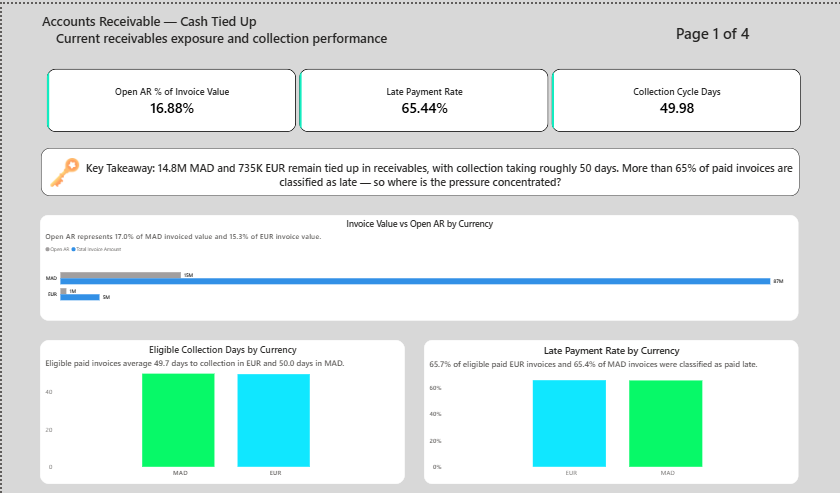

The page's visual inventory and layout, read from the dashboard file:
{"tool":"powerbi","page":{"name":"Page 1","canvas":[2100,1247],"ordinal":0},"visuals":[{"type":"textbox","box":[96,16,1024,96],"z":0},{"type":"textbox","box":[96,360,1896,120],"z":0,"group":"g1"},{"type":"textbox","box":[1632,24,288,120],"z":1000},{"type":"image","box":[24,384,264,72],"z":1000,"group":"g1"},{"type":"clusteredBarChart","title":"Invoice Value vs Open AR by Currency","fields":{"Category":["DimCurrency.Currency"],"Y":["Table.Open AR","Table.Total Invoice Amount"]},"box":[96,528,1896,264],"z":2000},{"type":"columnChart","fields":{"Category":["DimCurrency.Currency"],"Y":["Table.Eligible Collection Days"]},"box":[96,840,912,360],"z":3000},{"type":"clusteredColumnChart","fields":{"Category":["DimCurrency.Currency"],"Y":["Table.Late Payment Rate"]},"box":[1056,840,936,360],"z":4000},{"type":"group","id":"g1","title":"Group 1","box":[24,360,1968,120],"z":5000},{"type":"cardVisual","fields":{"Data":["Table.Open AR % of Invoice Value","Table.Late Payment Rate","Table.Average Collection Days"]},"box":[96,144,1920,192],"z":6000}]}

Visuals, with their boxes in screenshot pixels (x1, y1, x2, y2), scaled from the page's 2100x1247 canvas onto the 840x493 screenshot:
textbox: <region>38, 6, 448, 44</region>
textbox: <region>38, 142, 797, 190</region>
textbox: <region>653, 9, 768, 57</region>
image: <region>10, 152, 115, 180</region>
"Invoice Value vs Open AR by Currency" clusteredBarChart: <region>38, 209, 797, 313</region>
columnChart - DimCurrency.Currency x Table.Eligible Collection Days: <region>38, 332, 403, 474</region>
clusteredColumnChart - DimCurrency.Currency x Table.Late Payment Rate: <region>422, 332, 797, 474</region>
"Group 1" group: <region>10, 142, 797, 190</region>
cardVisual - Table.Open AR % of Invoice Value x Table.Late Payment Rate: <region>38, 57, 806, 133</region>
